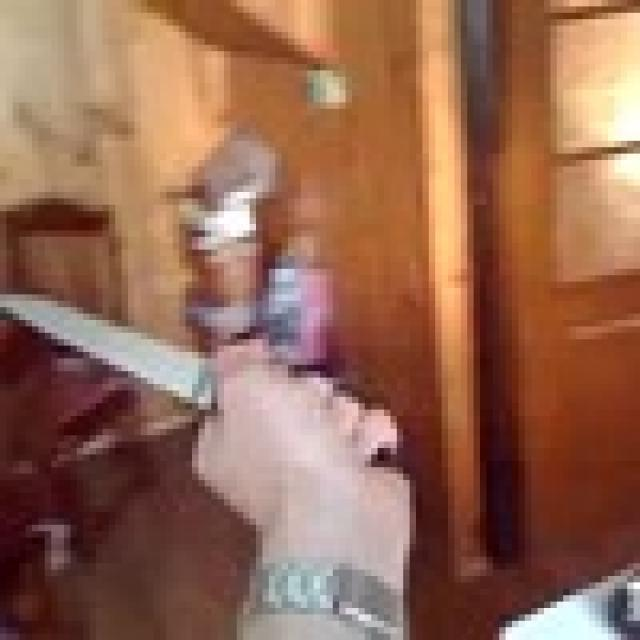knife: (7, 288, 230, 416)
